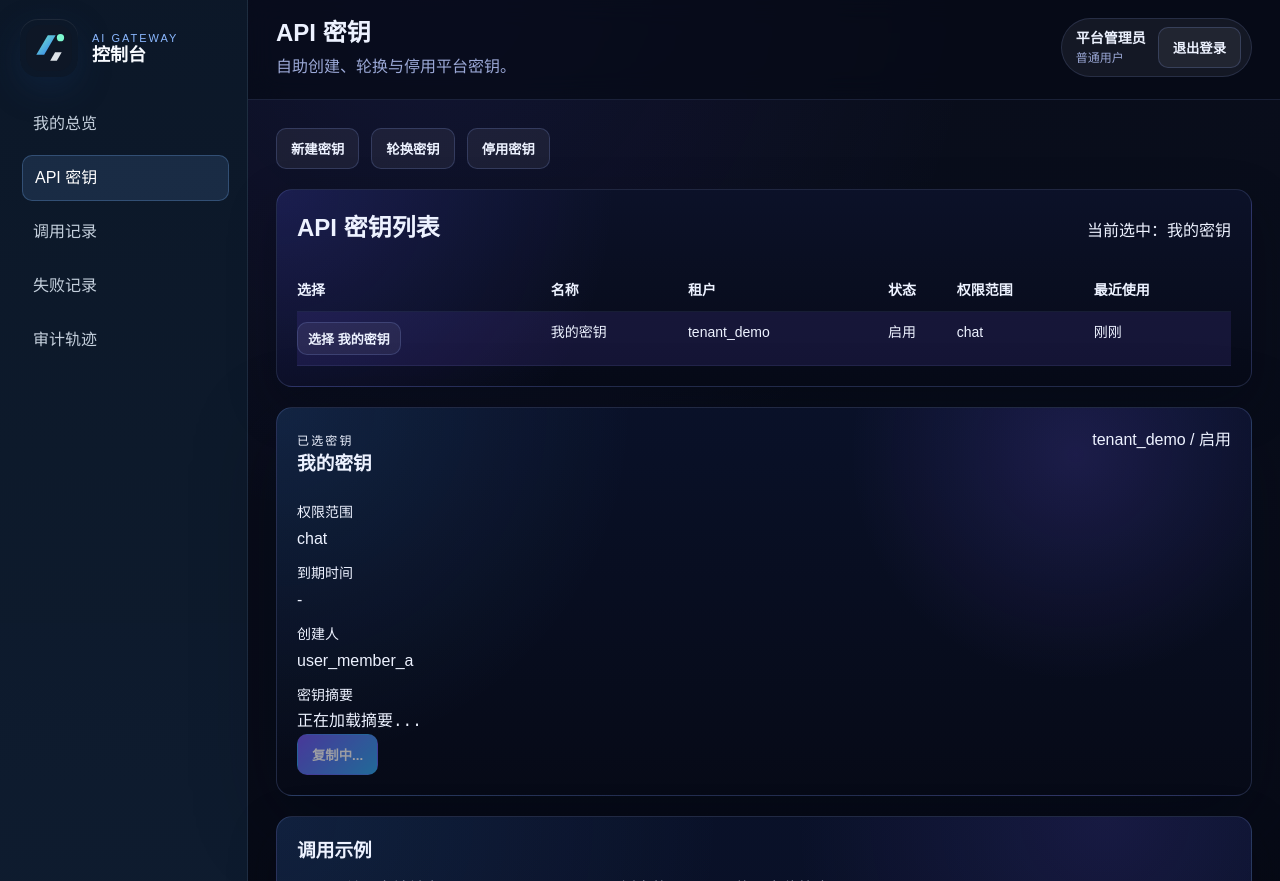
Test: 控制台路由 › member API 密钥页走 /me 接口且不显示租户输入或删除操作
This screenshot has width=1280, height=881.
Expected: the button "选择 我的密钥" is shown, [297,322,401,355]
Click the button "新建密钥".
click(318, 148)  # box [276,128,359,169]
(page scrolled)
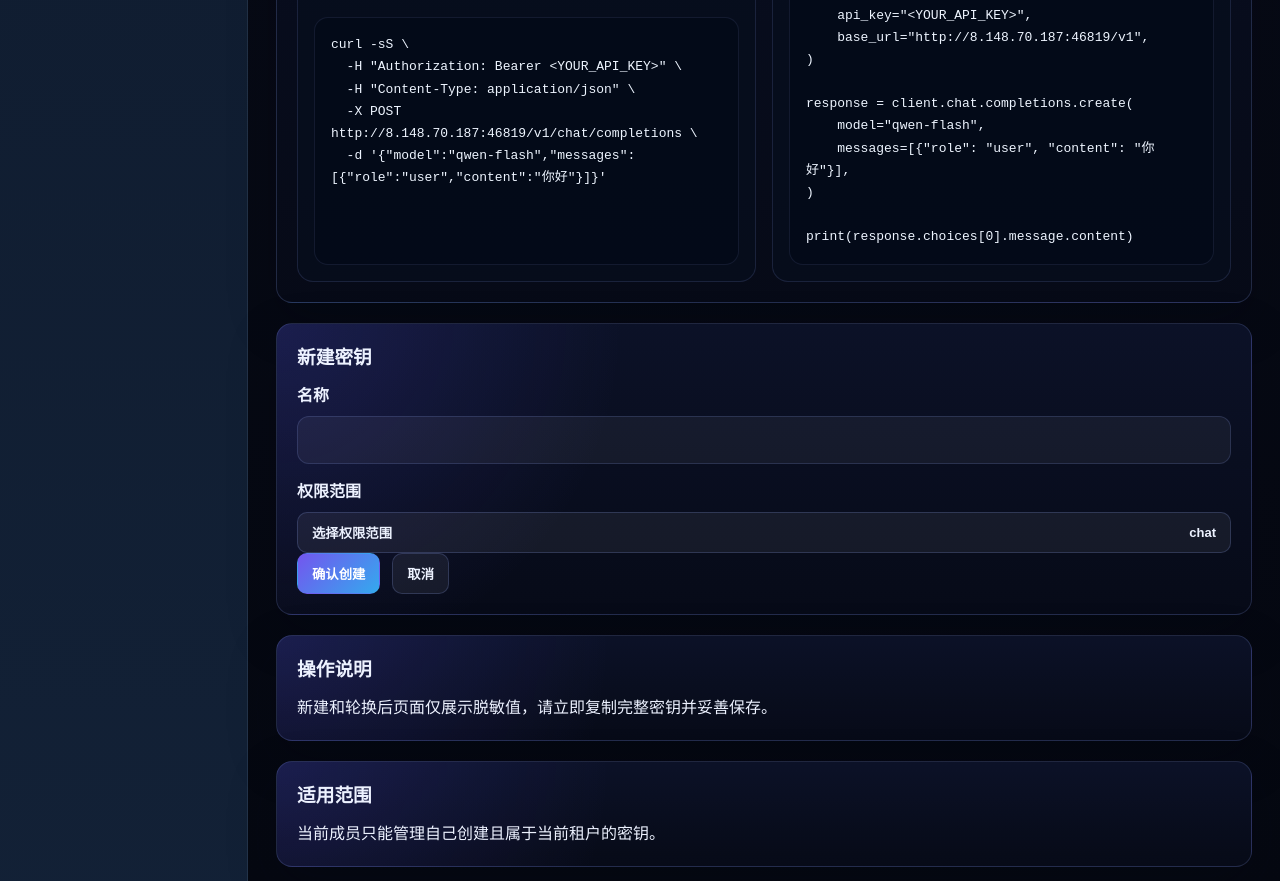
Type "member-key" into the field labelled "名称".
click(764, 440); type("member-key")  # box [297,416,1231,464]
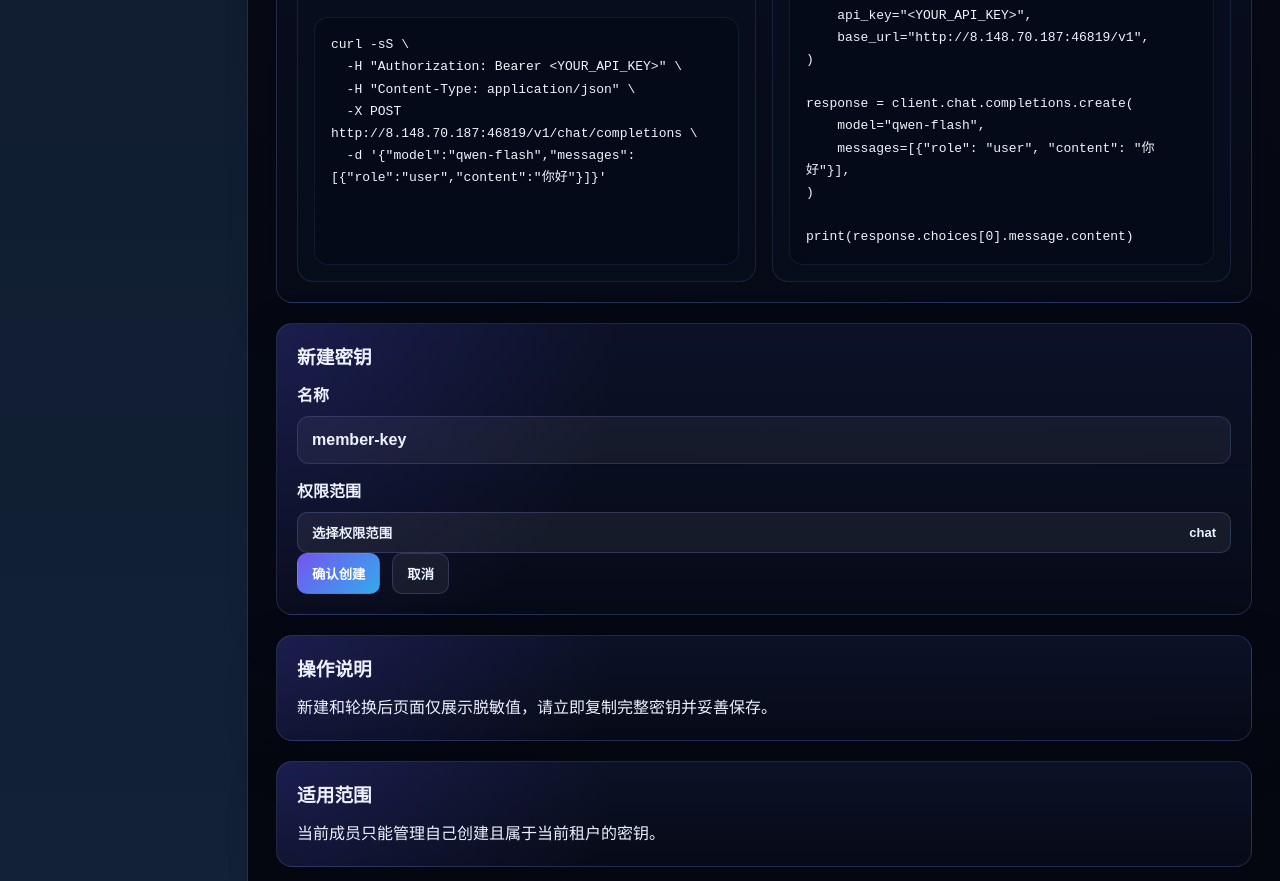
Click the button "确认创建".
click(339, 574)  # box [297,553,380,594]
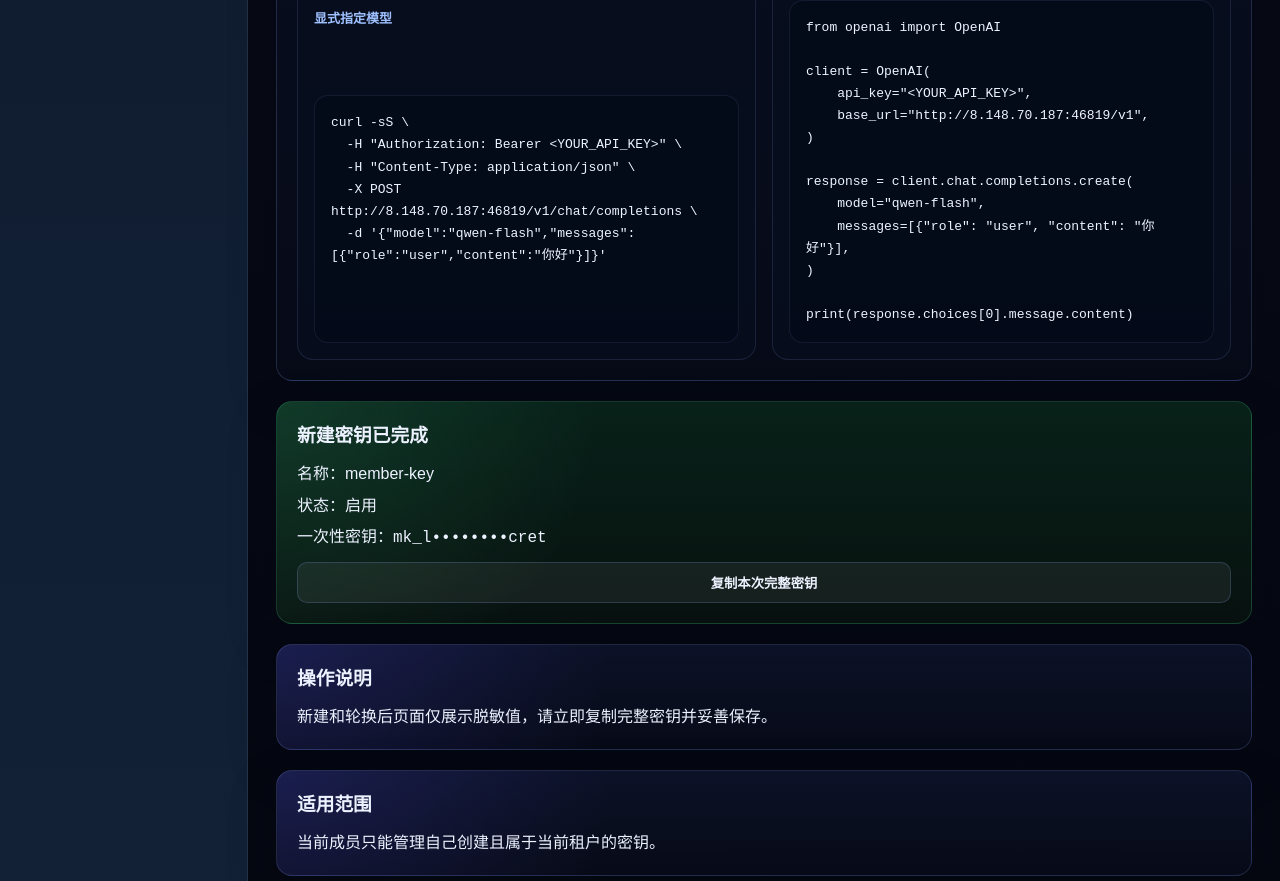
Expected: the heading "新建密钥已完成" is shown, [297,425,428,446]
